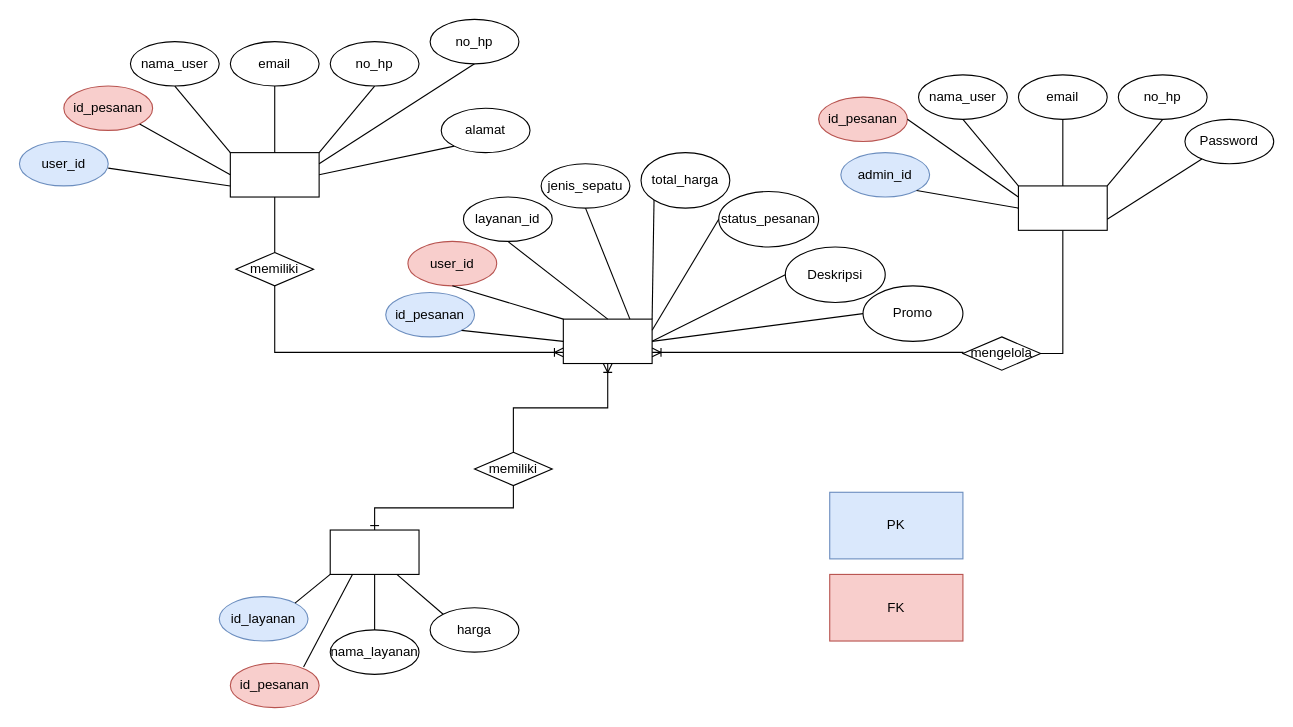
This 1293x727 diagram has some shape labels left out. The shapes that lost their labels are listed below. From the top down, each one's centre as x and y in pixels, then its label:
[274,174]: user
[1062,207]: Admin
[607,341]: pesanan
[374,551]: layanan
